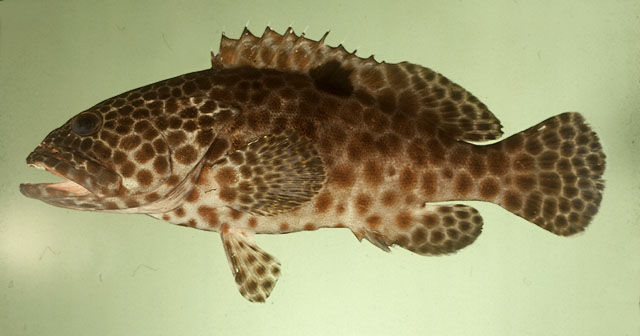fish: (18, 18, 608, 303)
